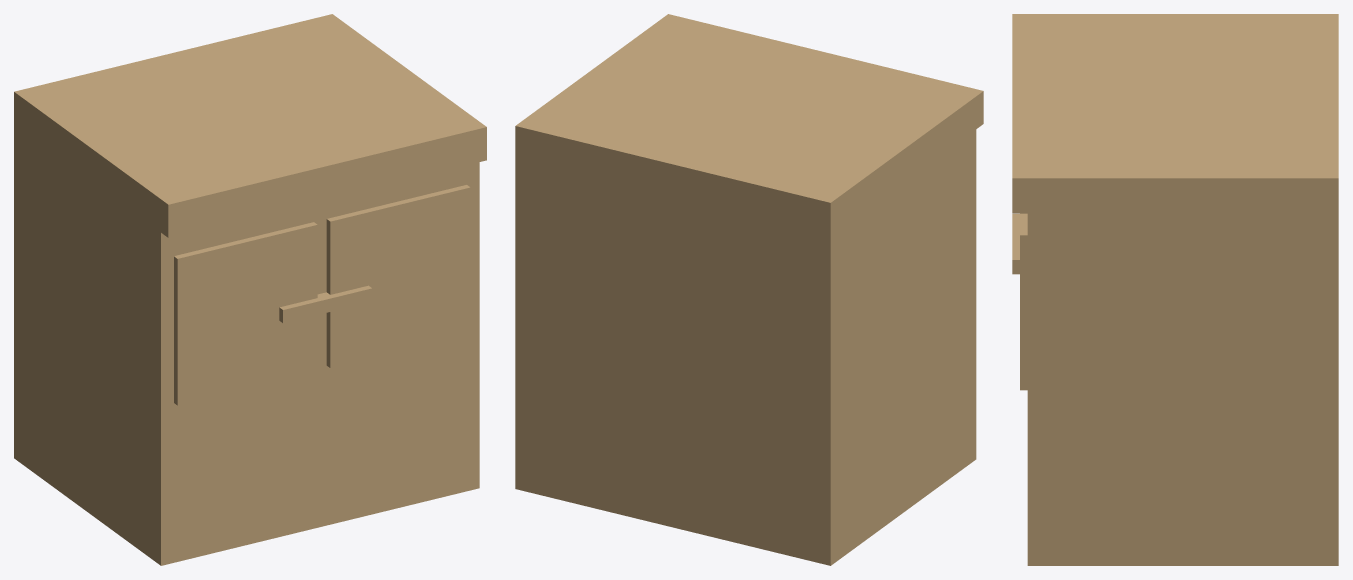
Rendered from nightstand.glb.
3 views of the same model, side by side, from view 1: azimuth 30°, elevation 25°; view 2: azimuth 150°, elevation 25°; view 3: azimuth 270°, elevation 25° (orthographic). The views are drawn at different scales.
Bounding box in the file's own units: 0.5 × 0.55 × 0.42.
